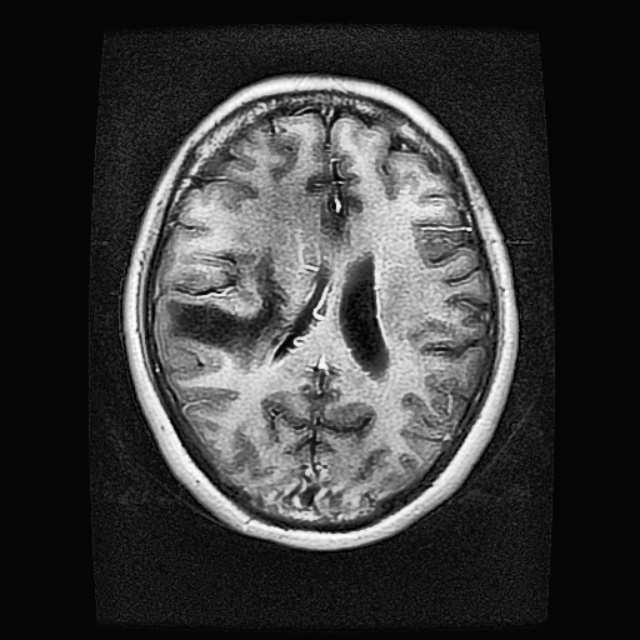Glioma: (164, 258, 282, 367)
